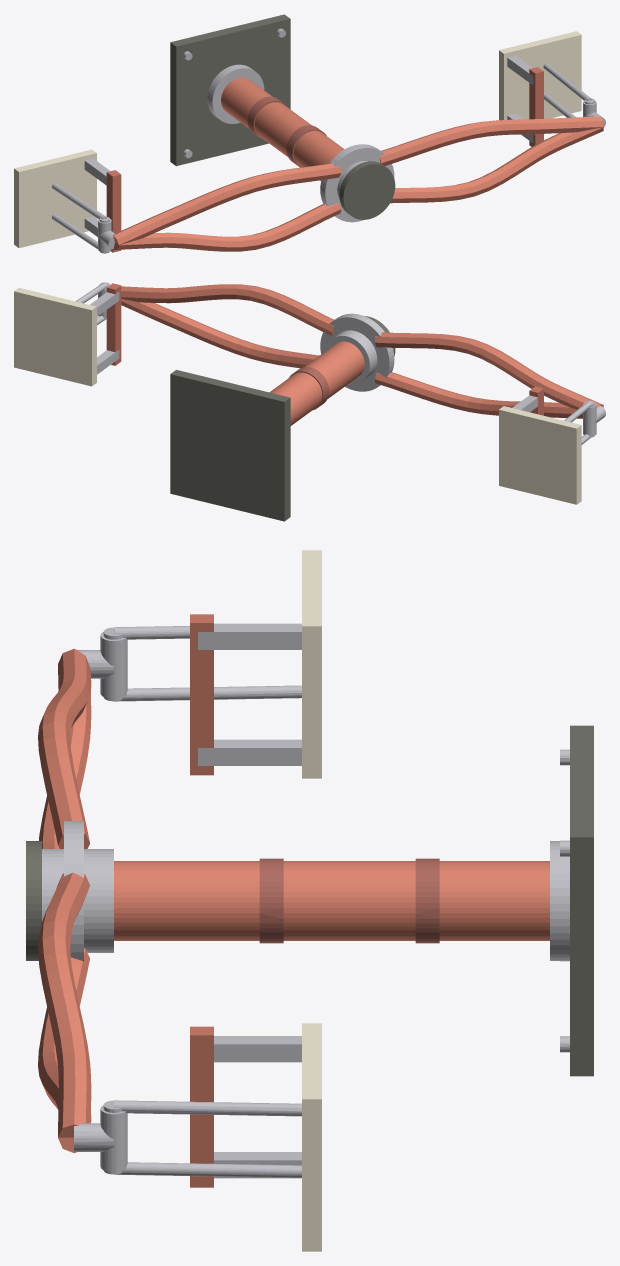
Rendered from count-seat_count-2.glb.
3 views of the same model, one above another, from view 1: azimuth 30°, elevation 25°; view 2: azimuth 150°, elevation 25°; view 3: azimuth 270°, elevation 25° (orthographic). The views are drawn at different scales.
Parts seen in each view (by area): view 1: support_column__column_shaft, support_column__bearing_collar; view 2: support_column__column_shaft, support_column__bearing_collar; view 3: support_column__column_shaft, support_column__bearing_collar.
Boxes of the visible parts, <box> form: support_column__column_shaft: <box>14,31,603,252</box>; support_column__bearing_collar: <box>51,14,605,253</box>; support_column__column_shaft: <box>14,283,603,504</box>; support_column__bearing_collar: <box>75,282,605,521</box>; support_column__column_shaft: <box>38,550,549,1251</box>; support_column__bearing_collar: <box>26,623,593,1178</box>.
Size of the model in its own units: 3.25 by 0.6598 by 1.42.
Materials: 2 (2 with a texture image).
